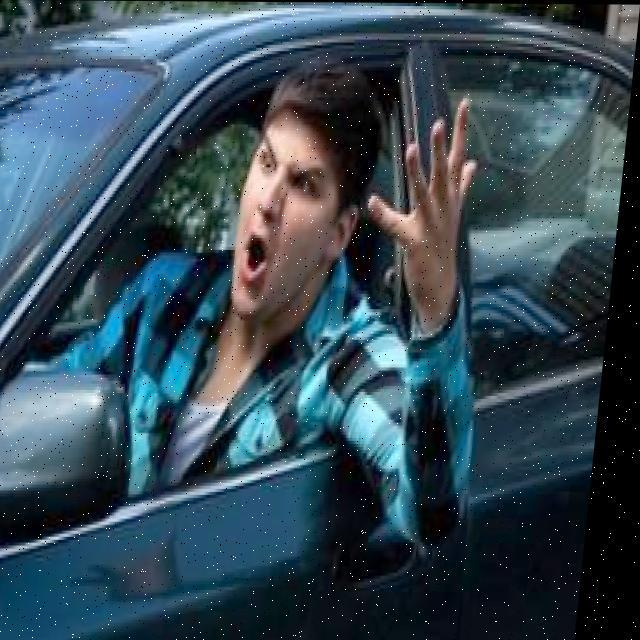noSeatbelt: (113, 231, 394, 495)
